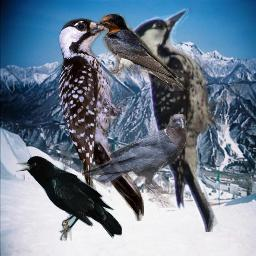Crow: (82, 114, 187, 208), (16, 156, 122, 241)
Swallow: (98, 13, 191, 93)
Woodpecker: (127, 6, 247, 232), (56, 18, 144, 221)
